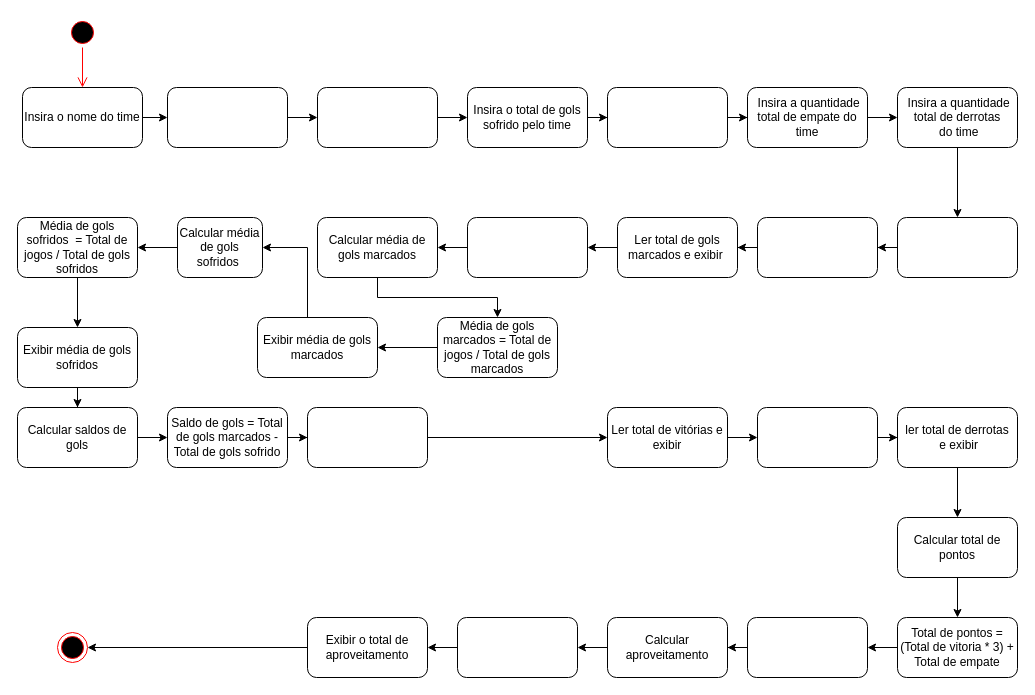
Image size: 1035x695. Some labels were removed from this diagram. The shapes that lost their labels are listed below. From the top down, each one's centre as x and y in pixels, then its label:
At [227,117]: "Insira o total de jogos disputados pelo time".
At [377,117]: "Insira o total de gols marcado pelo time".
At [667,117]: "Insira a quantidade total de vitórias do time".
At [527,247]: "Ler total de gols sofridos e exibir".
At [817,247]: "Ler totais de jogos disputados e exibir".
At [957,247]: "Ler nome do time e exibir".
At [367,437]: "Exibir saldo de gols".
At [817,437]: "Ler total de empates e exibir".
At [517,647]: "Aproveitamento = pontos / (total de jogos * 3) * 100".
At [807,647]: "Exibir total de pontos".
